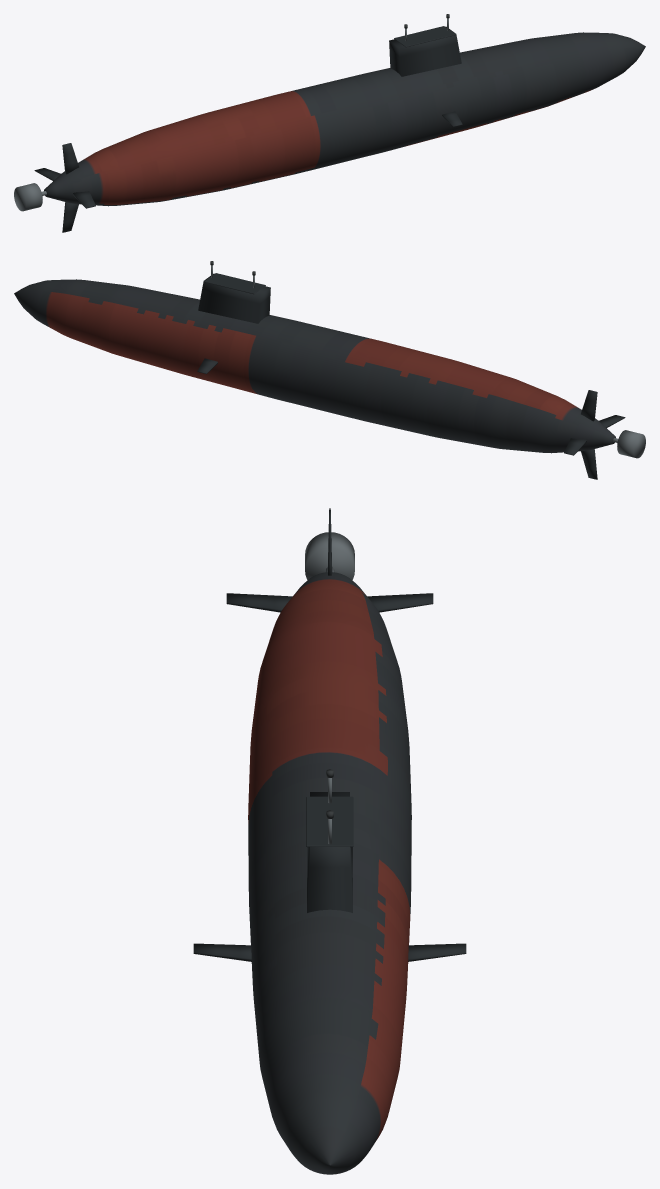
File: CN_SSN_Type095.glb
The picture shows the model from 3 angles, top to bottom: view 1: azimuth 30°, elevation 25°; view 2: azimuth 150°, elevation 25°; view 3: azimuth 270°, elevation 25°; orthographic projection. The views are drawn at different scales.
Parts seen in each view (by area): view 1: CN_SSN_Type095_LOD0; view 2: CN_SSN_Type095_LOD0; view 3: CN_SSN_Type095_LOD0.
Part boxes in pixels (x1,y1,x2,y2): CN_SSN_Type095_LOD0: [14, 14, 645, 232]; CN_SSN_Type095_LOD0: [14, 261, 645, 479]; CN_SSN_Type095_LOD0: [193, 508, 466, 1174].
Bounding box in the file's own units: 115 × 21.71 × 21.65.
Materials: 6 (1 with a texture image).
